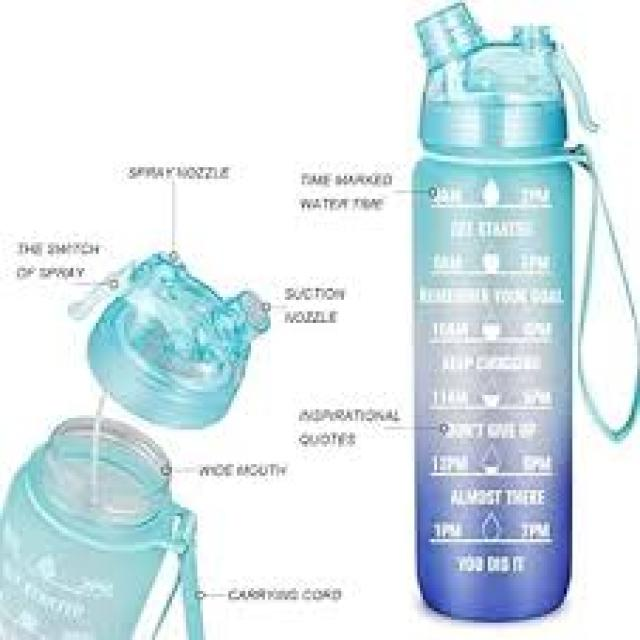Botella: (397, 0, 606, 628)
